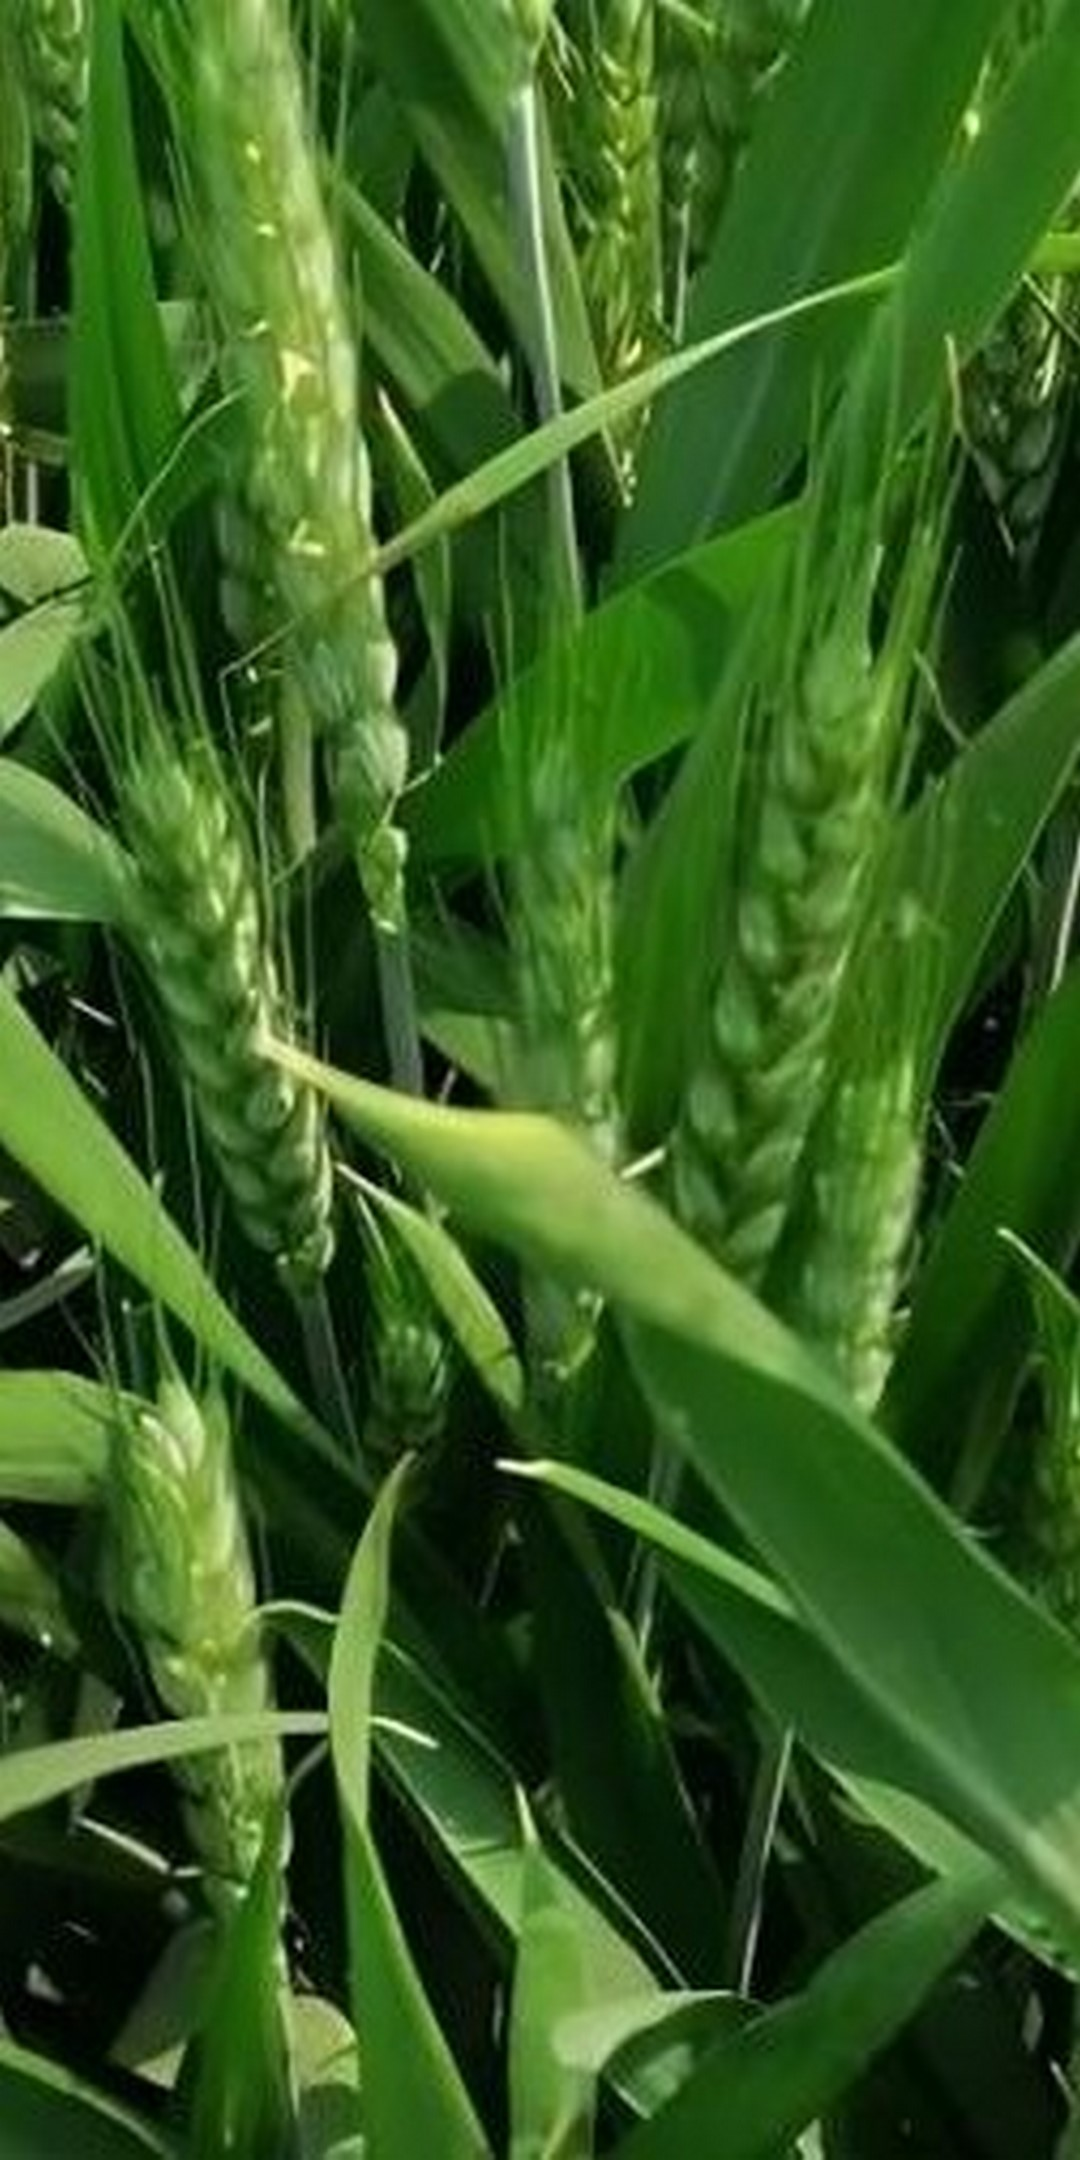Healthy Wheat: (678, 614, 948, 1344), (90, 744, 377, 1300)
